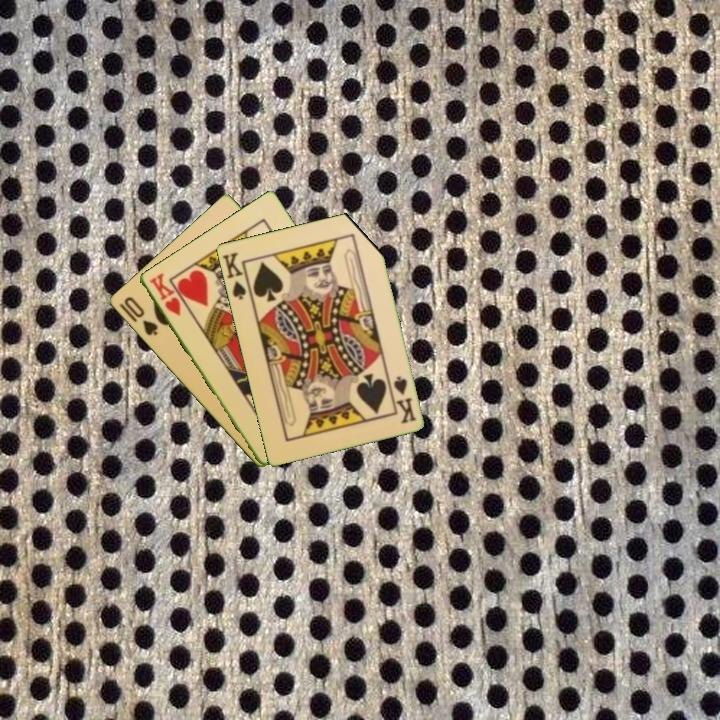10s: (120, 293, 160, 339)
Kh: (146, 269, 183, 319)
Ks: (219, 248, 249, 302), (390, 372, 418, 426)
